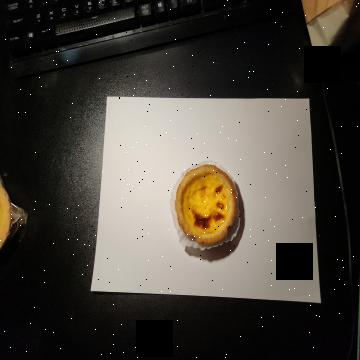EggTart: (174, 164, 238, 246)
